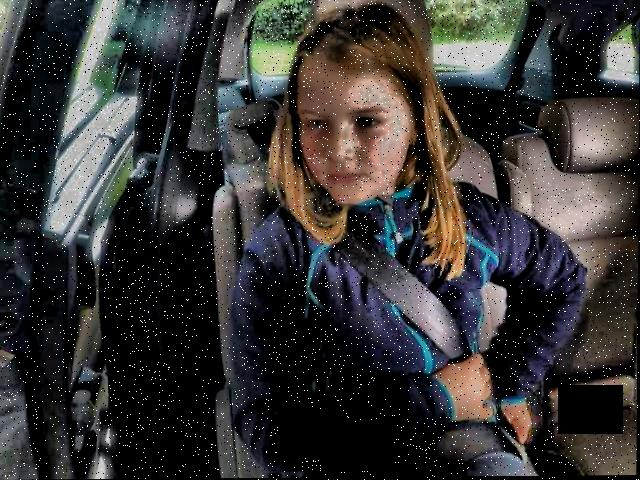seatbelt: (243, 107, 504, 385)
